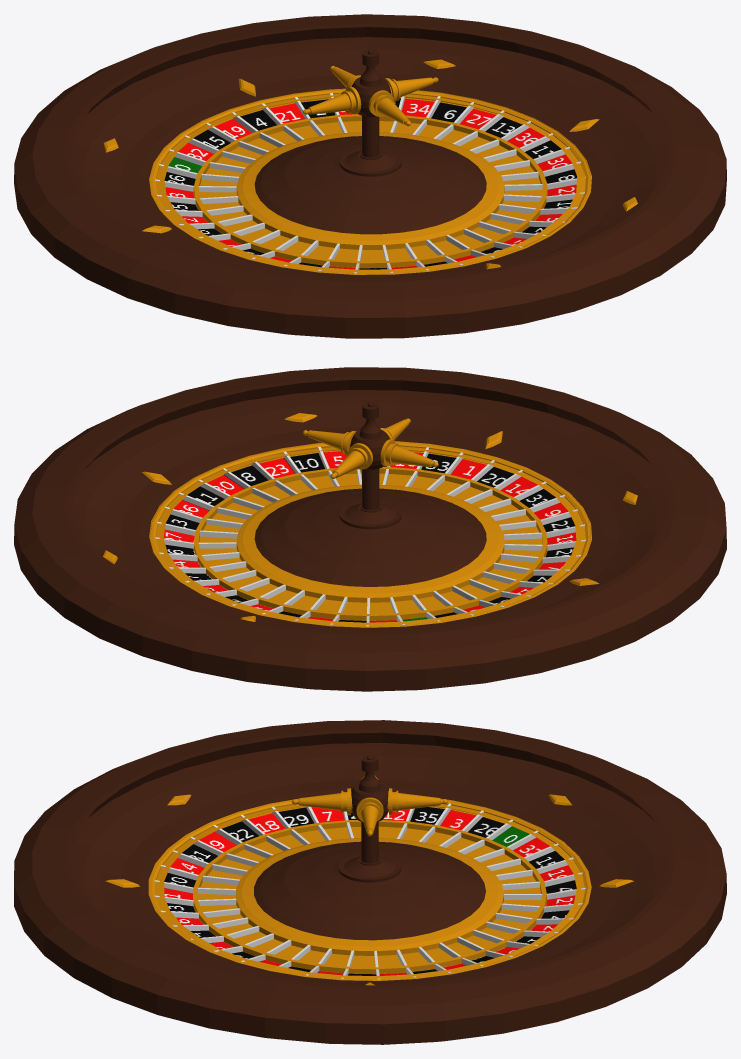
File: Roulette_Table_V3.glb
3 renders of one model, top to bottom at view 1: azimuth 30°, elevation 25°; view 2: azimuth 150°, elevation 25°; view 3: azimuth 270°, elevation 25°, orthographic.
Visible parts, largest first — view 1: OuterCircle, InnerCircle, InnerPillar, Seperator, numbers, Circle.004, Circle.001, Circle.003; view 2: OuterCircle, InnerCircle, InnerPillar, Seperator, numbers, Circle.004, Circle.002, Circle.003; view 3: OuterCircle, InnerCircle, InnerPillar, Seperator, numbers, Circle.001, Circle.002, Circle.003.
Boxes of the visible parts, x1,y1,x2,y2 form: OuterCircle: [14, 14, 726, 338]; InnerCircle: [149, 88, 591, 274]; InnerPillar: [254, 49, 486, 234]; Seperator: [155, 92, 585, 273]; numbers: [164, 98, 576, 269]; Circle.004: [303, 87, 361, 114]; Circle.001: [368, 90, 411, 126]; Circle.003: [385, 77, 438, 102]; OuterCircle: [14, 367, 726, 691]; InnerCircle: [149, 441, 591, 627]; InnerPillar: [254, 402, 486, 586]; Seperator: [155, 446, 585, 626]; numbers: [163, 451, 576, 622]; Circle.004: [380, 439, 438, 467]; Circle.002: [330, 443, 372, 478]; Circle.003: [302, 430, 356, 456]; OuterCircle: [14, 720, 726, 1044]; InnerCircle: [148, 798, 591, 980]; InnerPillar: [254, 755, 485, 940]; Seperator: [154, 803, 585, 979]; numbers: [164, 807, 576, 975]; Circle.001: [291, 788, 352, 815]; Circle.002: [387, 788, 447, 815]; Circle.003: [356, 797, 383, 836].
Bounding box in the file's own units: 5.55 × 1.33 × 5.55.
3 materials, 1 textured.
